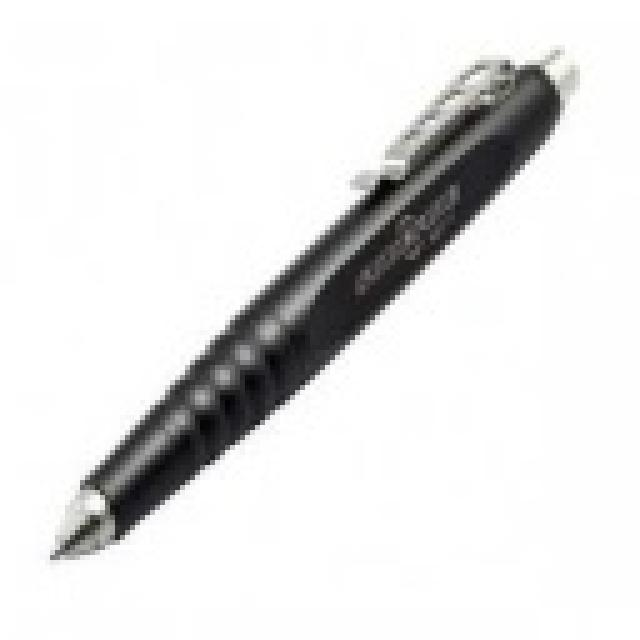pen: (41, 40, 592, 570)
